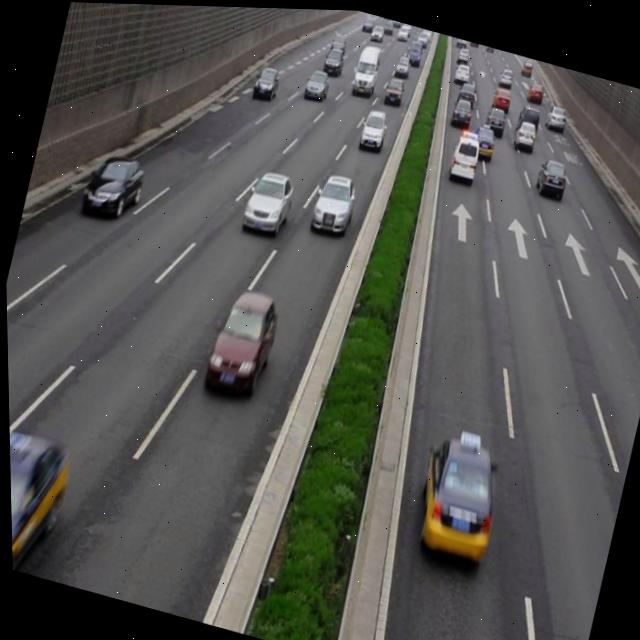car: (402, 413, 507, 564), (7, 423, 74, 579), (199, 278, 283, 399), (78, 149, 147, 224), (238, 164, 296, 238), (308, 167, 359, 235), (356, 103, 390, 153), (530, 151, 568, 194), (249, 61, 280, 97)
truck: (443, 124, 481, 182)
